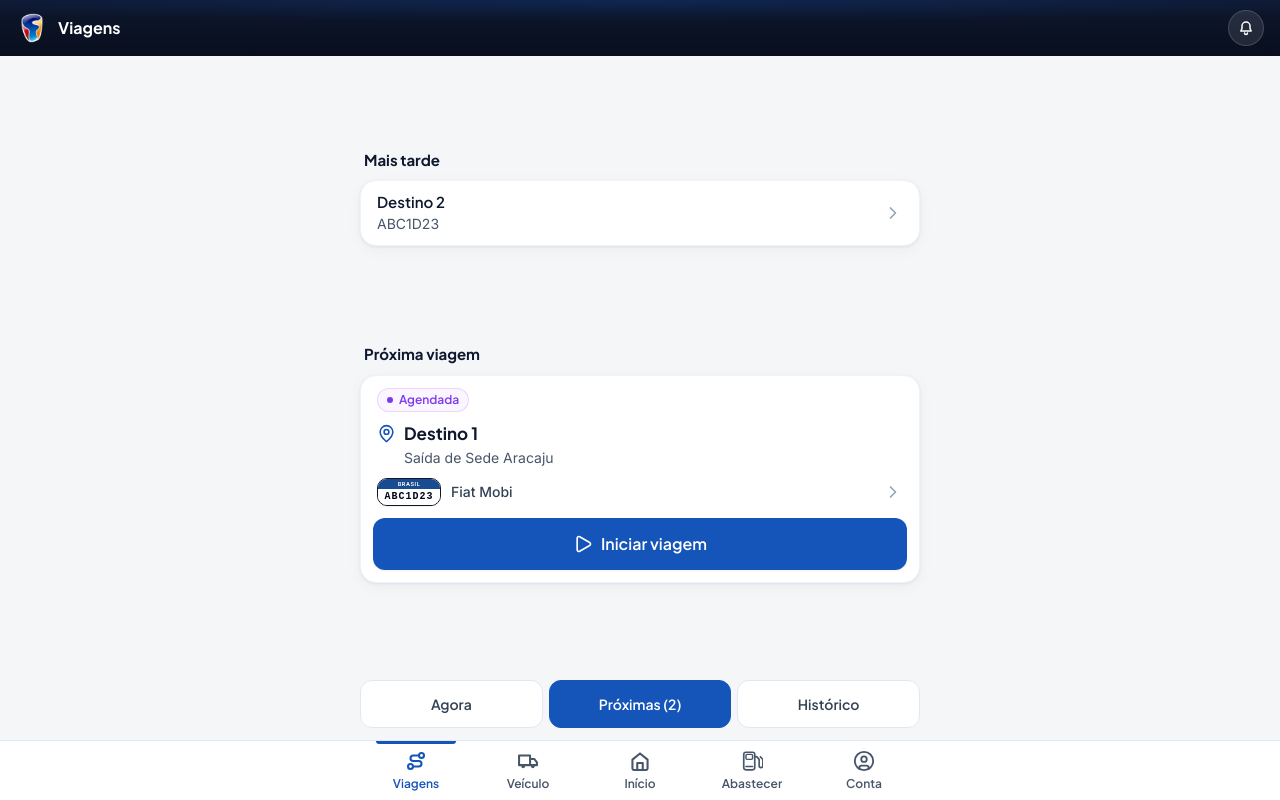
Test case: Início e Viagens › inicia uma viagem de mais tarde pelos detalhes
The width and height of the screenshot is (1280, 800).
Click the button "Destino 2 ABC1D23" at (411, 202), box [361,181,919,245]
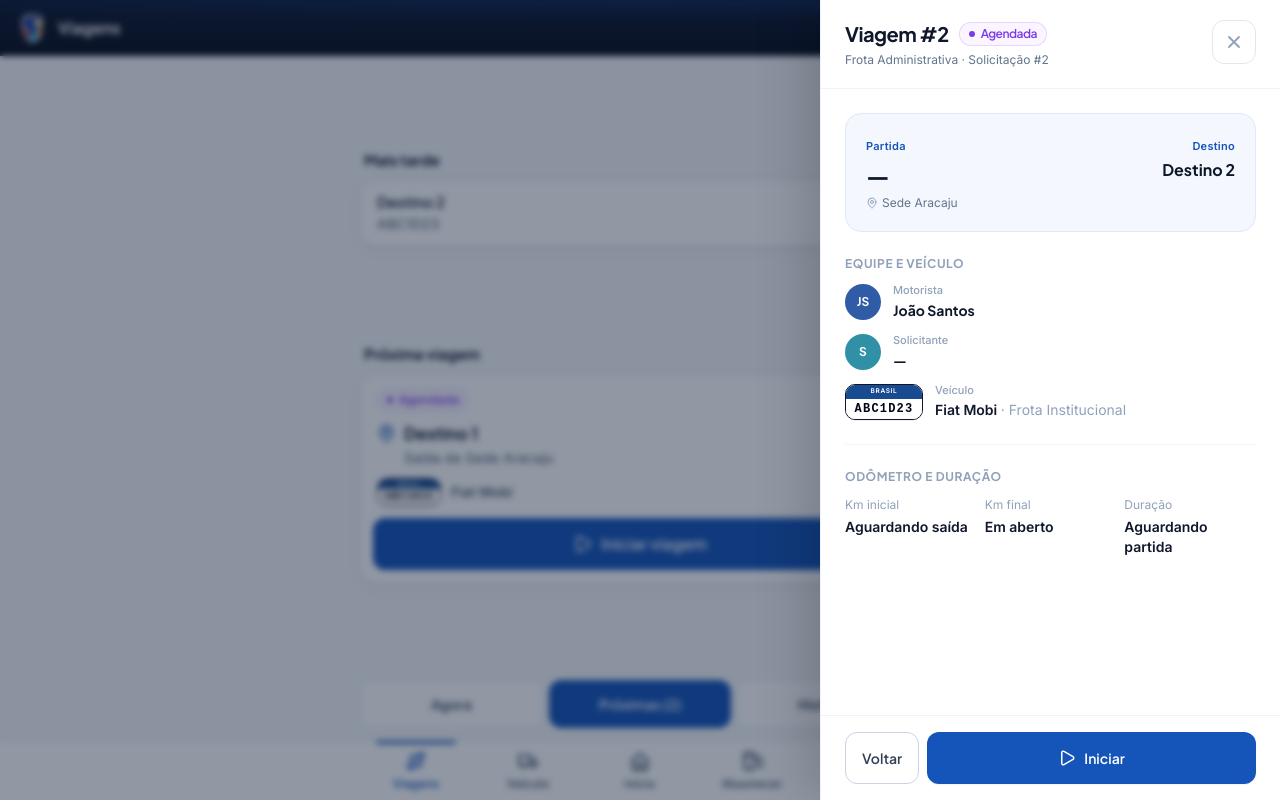
Click the button "Iniciar" at (1092, 758), box [927,732,1256,784]
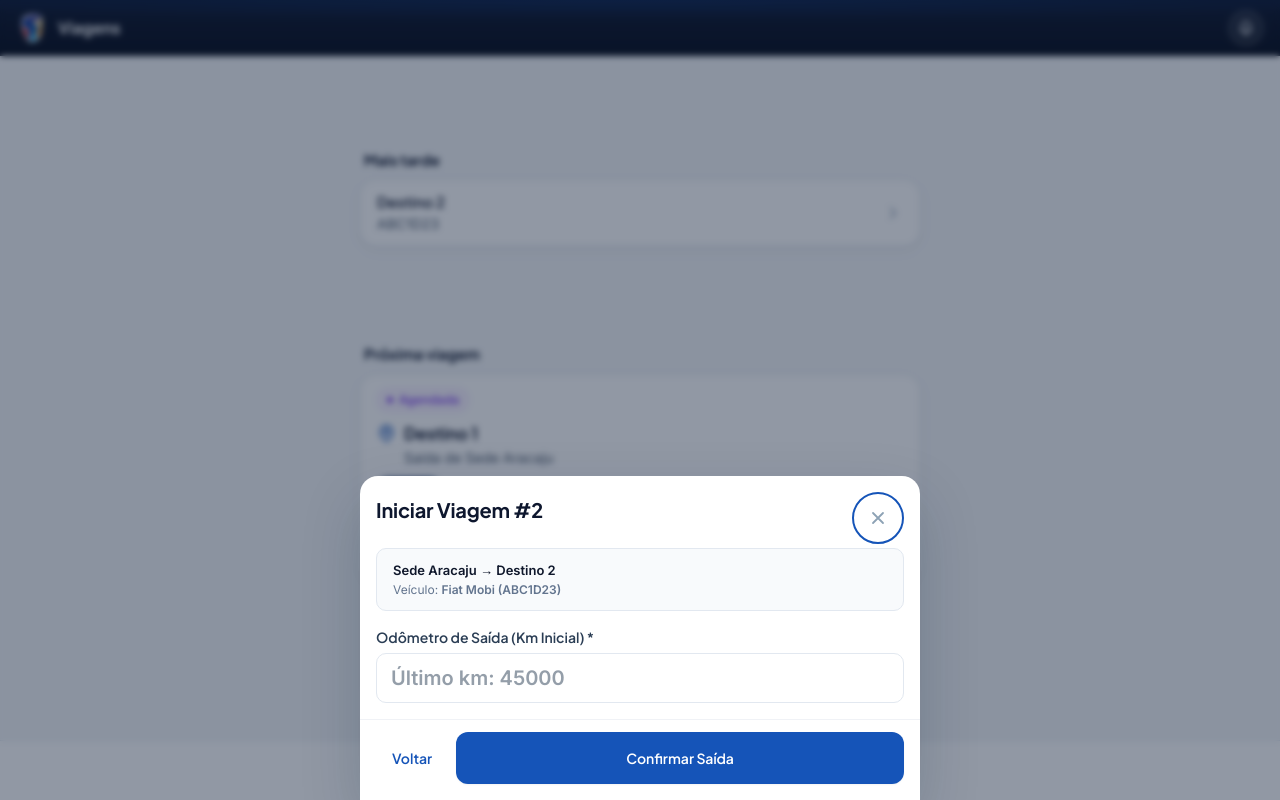
Expected: the dialog "Iniciar Viagem #2" is shown, [360,476,920,799]
